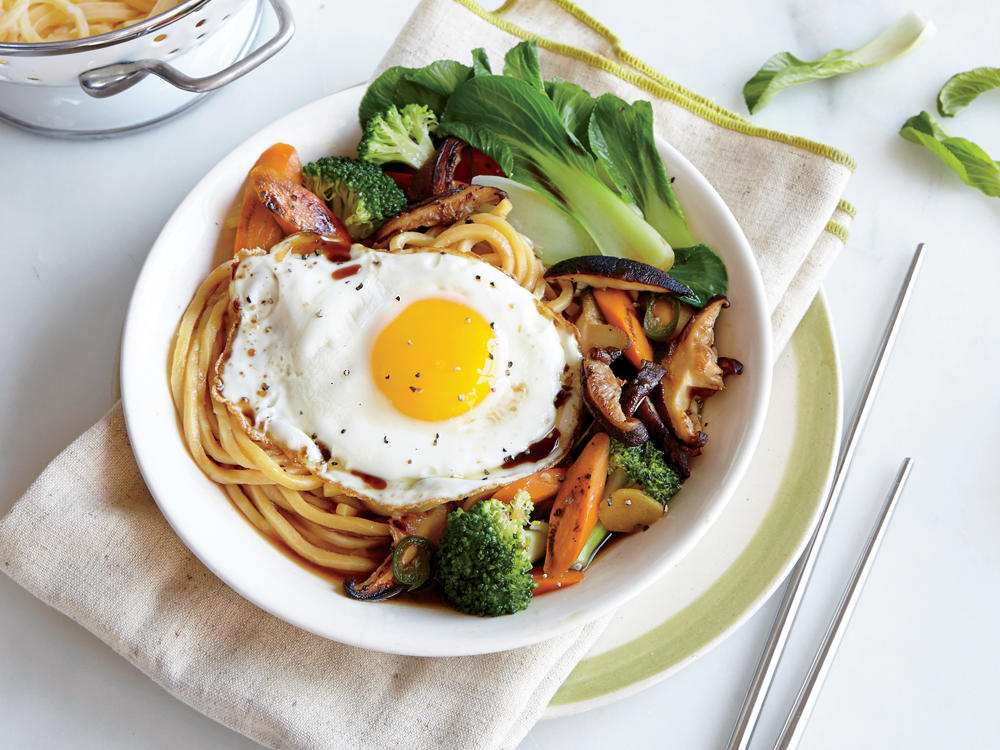chopped lettuce: (422, 72, 682, 247)
fried egg: (252, 280, 550, 440)
plain spaghetti: (212, 465, 367, 550)
